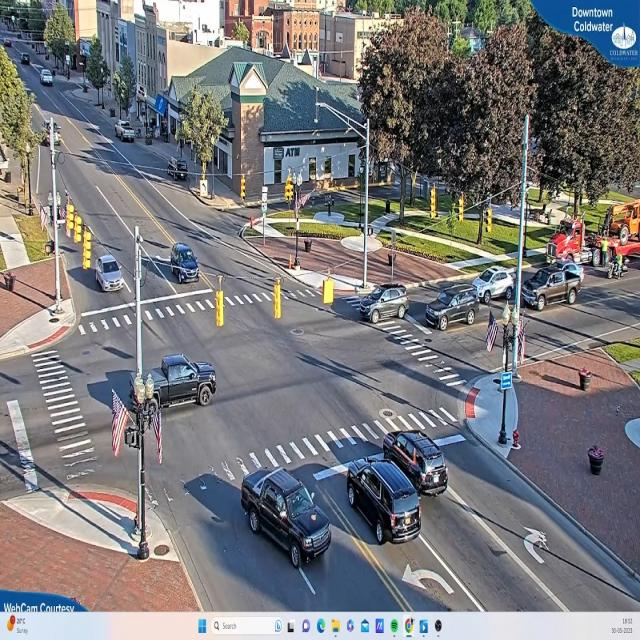car: (241, 468, 335, 566), (344, 457, 424, 544), (384, 431, 448, 494), (150, 354, 216, 408), (521, 266, 581, 314), (424, 290, 478, 330), (356, 284, 409, 323), (477, 260, 512, 305), (167, 247, 203, 289), (94, 255, 127, 294), (117, 121, 137, 144), (42, 70, 55, 85), (22, 55, 30, 65)
